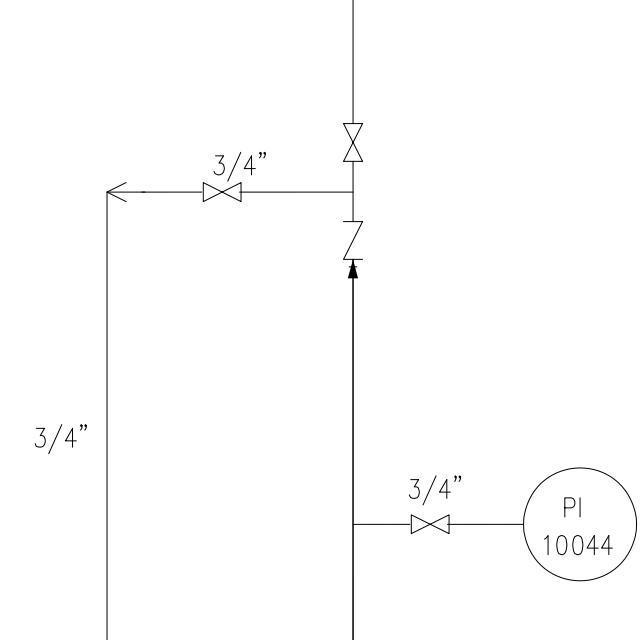GV: (340, 119, 365, 168), (199, 180, 245, 206), (408, 512, 453, 536)
